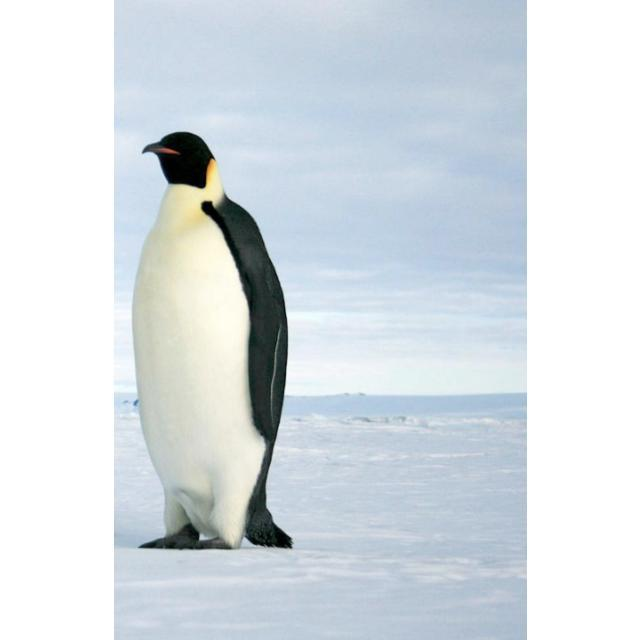penguin: (132, 132, 294, 549)
